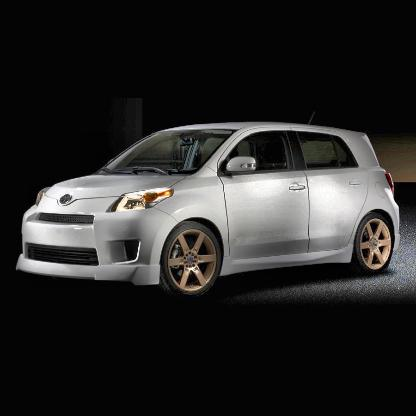Scion xD Hatchback 2012: (17, 120, 404, 296)
